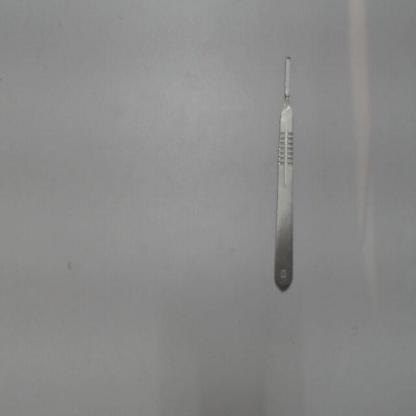No.4 BP Handle: (270, 40, 301, 300)
